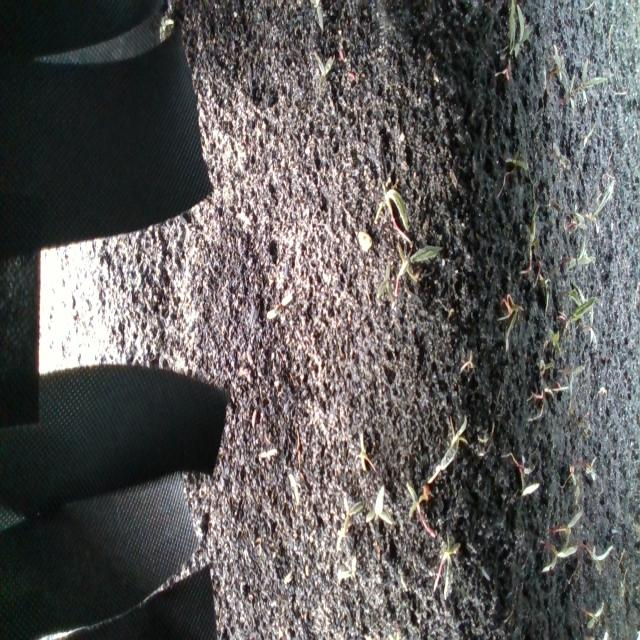weed: (581, 535, 615, 581)
